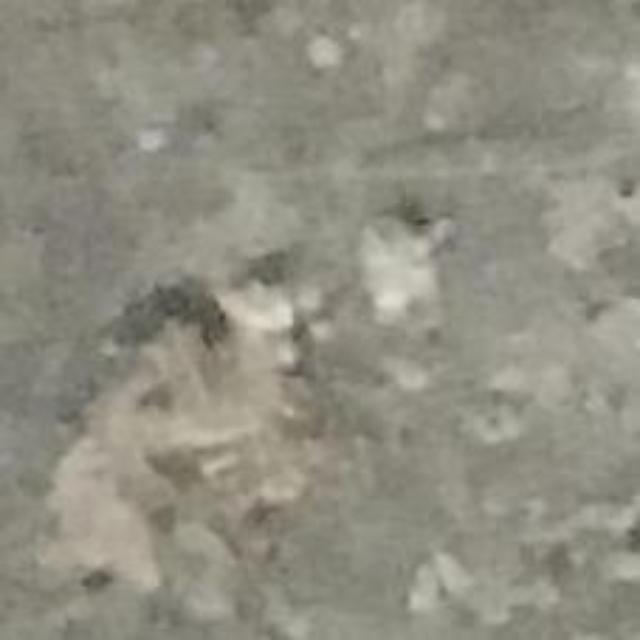peeling plaster: (54, 257, 329, 558)
